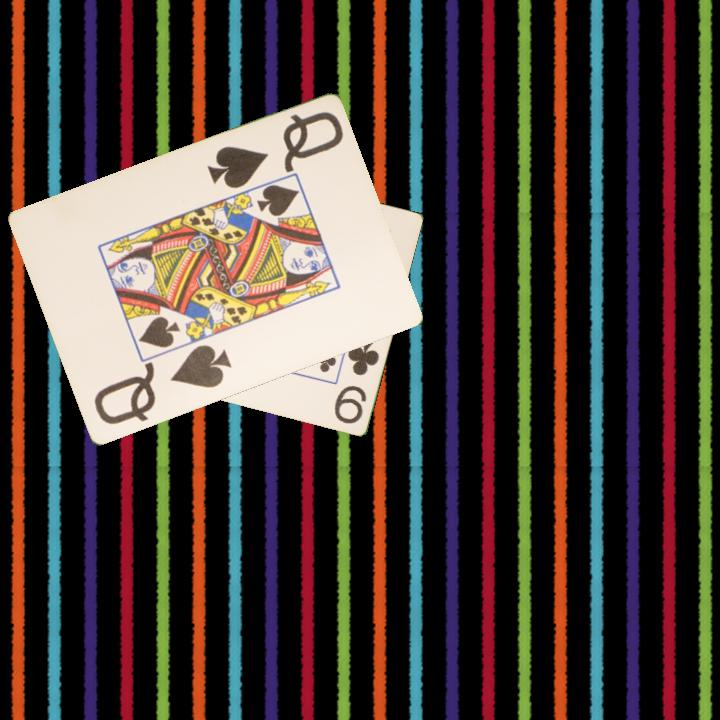9c: (330, 335, 382, 427)
Qs: (90, 341, 235, 428), (203, 108, 346, 192)
